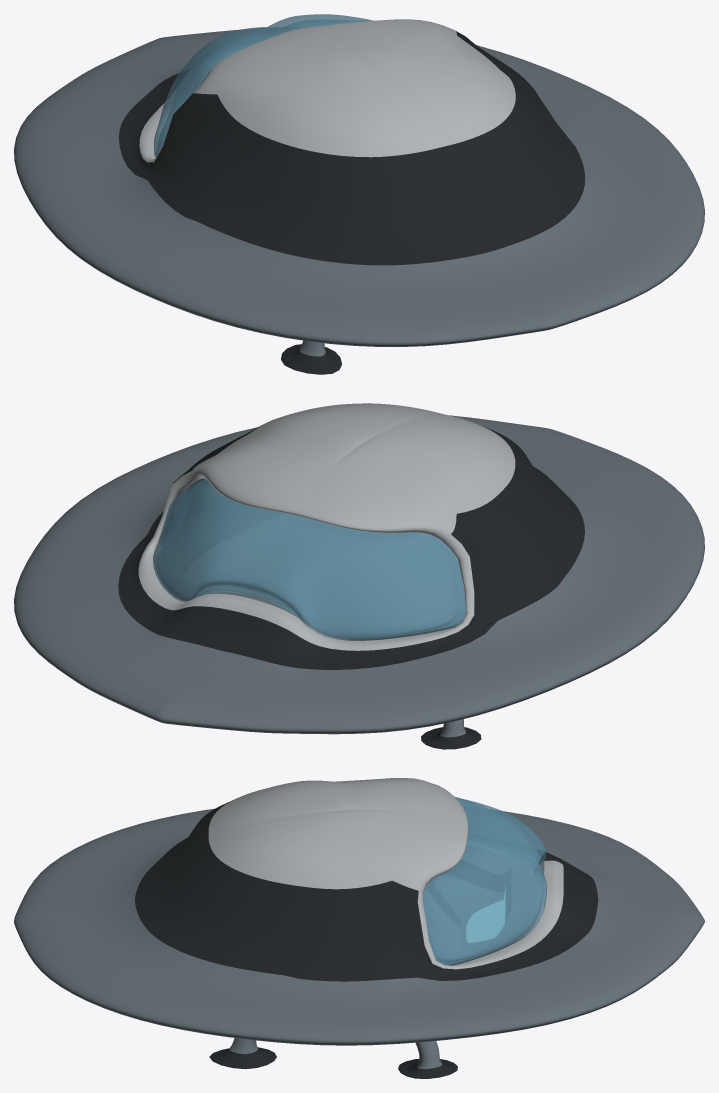
Rendered from UFO2.fbx.
3 views of the same model, one above another, from view 1: azimuth 30°, elevation 25°; view 2: azimuth 150°, elevation 25°; view 3: azimuth 270°, elevation 25° (orthographic). The views are drawn at different scales.
Visible parts, largest first — view 1: polySurface2; view 2: polySurface2; view 3: polySurface2.
Boxes of the visible parts, x1,y1,x2,y2 form: polySurface2: [14, 14, 704, 374]; polySurface2: [14, 403, 704, 749]; polySurface2: [14, 778, 704, 1078].
Bounding box in the file's own units: 237 × 93.14 × 286.
